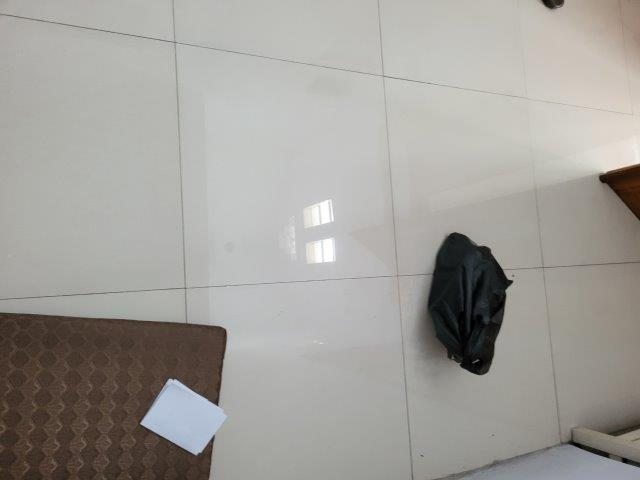kertas: (139, 378, 226, 455)
plastik: (431, 232, 508, 376)
